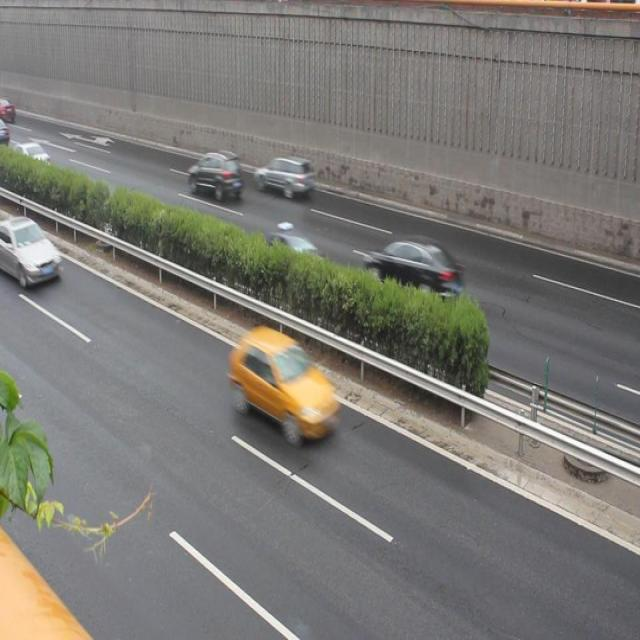car: (228, 322, 339, 444), (365, 232, 460, 304), (1, 208, 58, 292), (252, 221, 326, 278), (257, 147, 314, 210), (185, 146, 242, 204), (10, 136, 53, 177)
